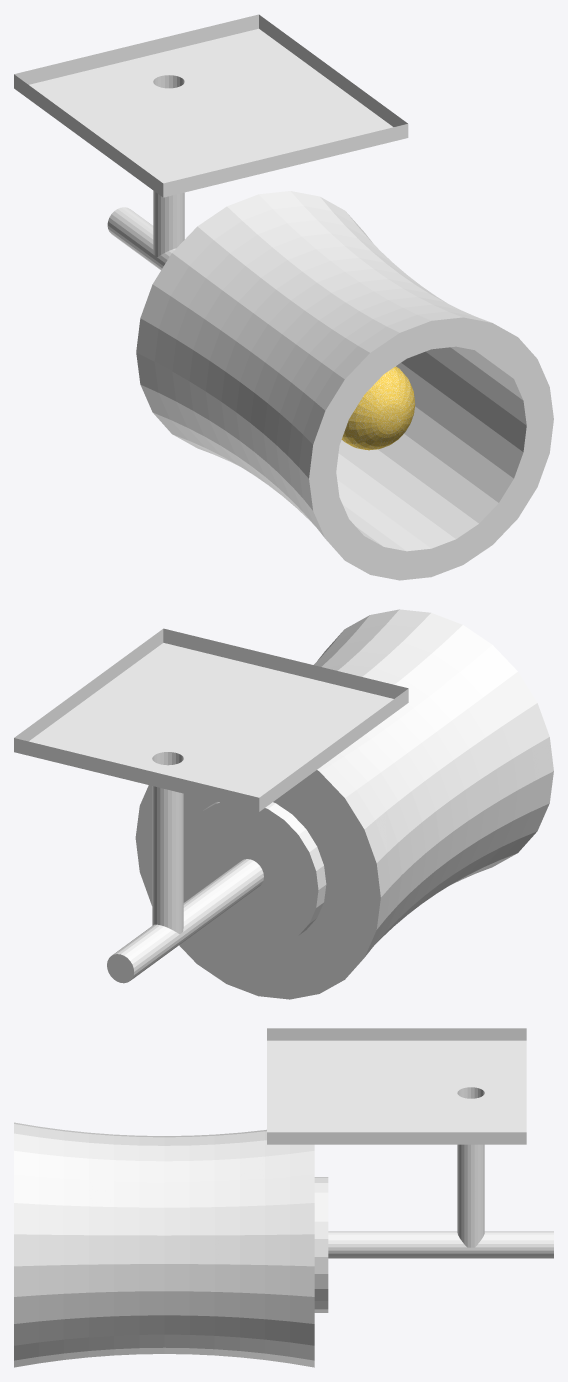
The picture shows the model from 3 angles, top to bottom: view 1: azimuth 30°, elevation 25°; view 2: azimuth 150°, elevation 25°; view 3: azimuth 270°, elevation 25°; orthographic projection. The views are drawn at different scales.
Visible parts, largest first — view 1: tropical wall sconce; view 2: tropical wall sconce; view 3: tropical wall sconce.
Boxes of the visible parts, x1,y1,x2,y2 form: tropical wall sconce: (14, 14, 553, 580); tropical wall sconce: (14, 609, 553, 999); tropical wall sconce: (14, 1028, 553, 1367).
Bounding box in the file's own units: 5.9 × 7.3 × 12.94.
